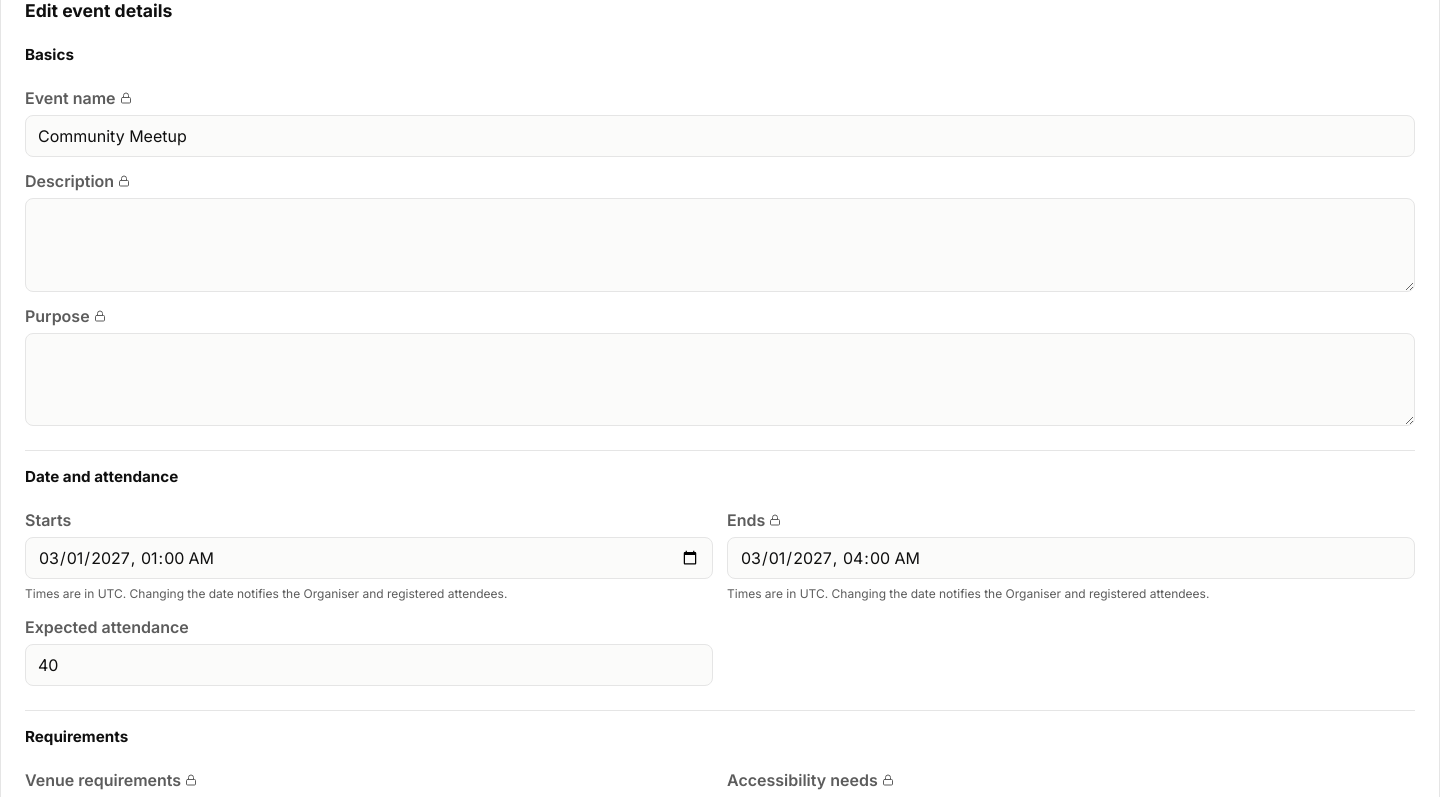
Scenario: TC_E10S01_03: refused save offers an explicit link, preserves attempted attendance, and only submits on confirmation
The image size is (1440, 797).
(page scrolled)
Replace the text in the number field labelled "Expected attendance" with "75". click: (369, 665)
box: [25,644,713,686]
(page scrolled)
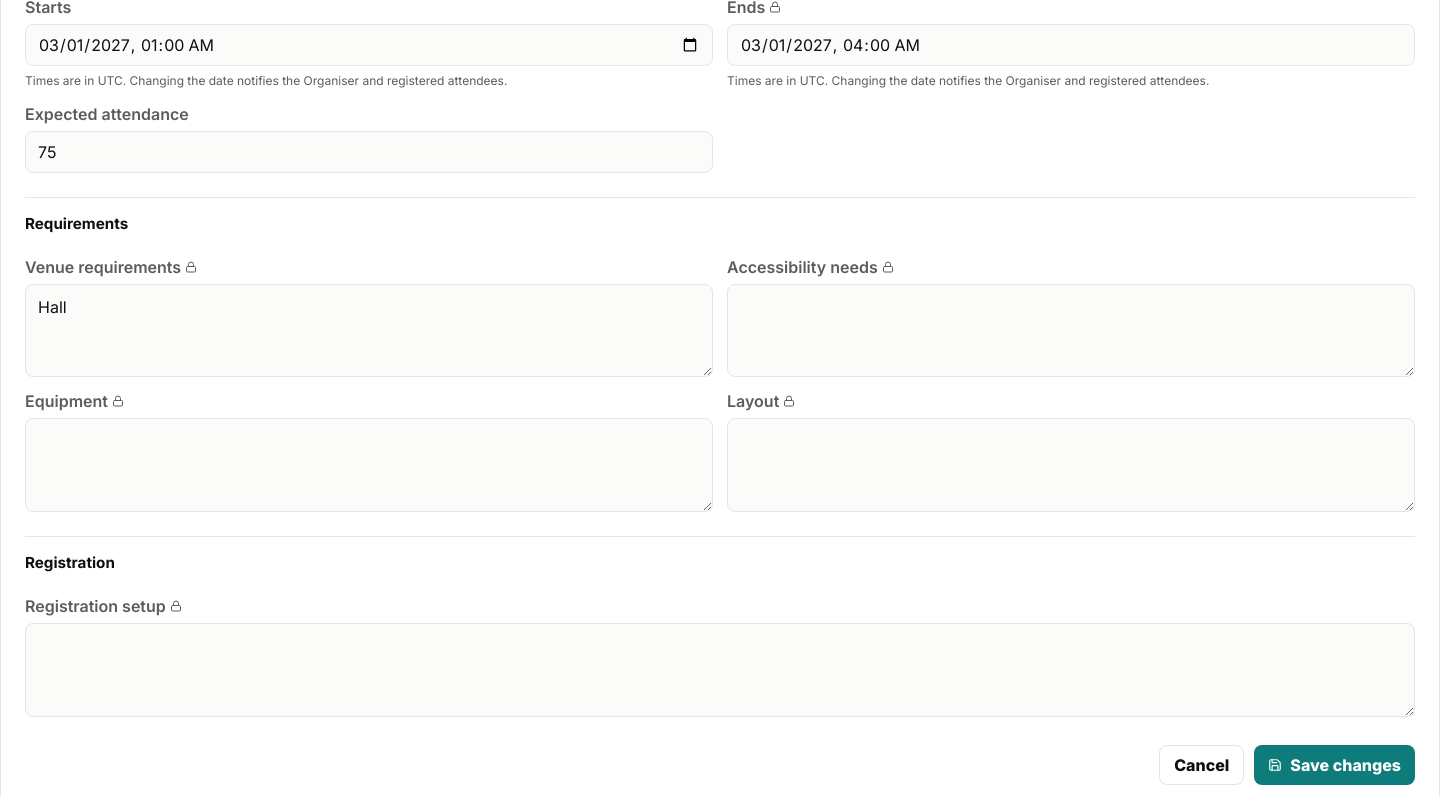
Click the button "Save changes". click: (1335, 765)
box: [1254,745,1415,785]
(page scrolled)
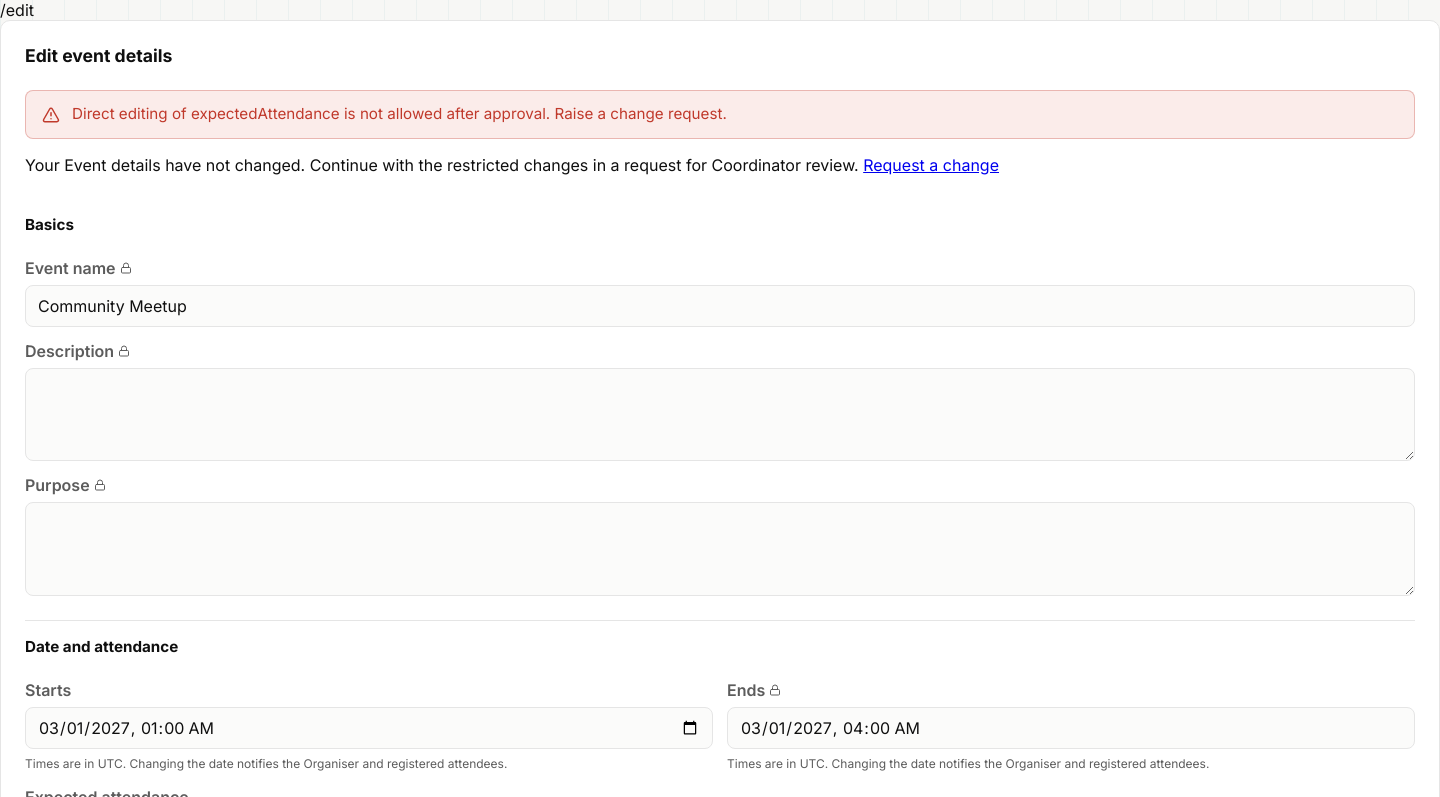
Click the link "Request a change". click: (931, 165)
box: [863,155,999,175]
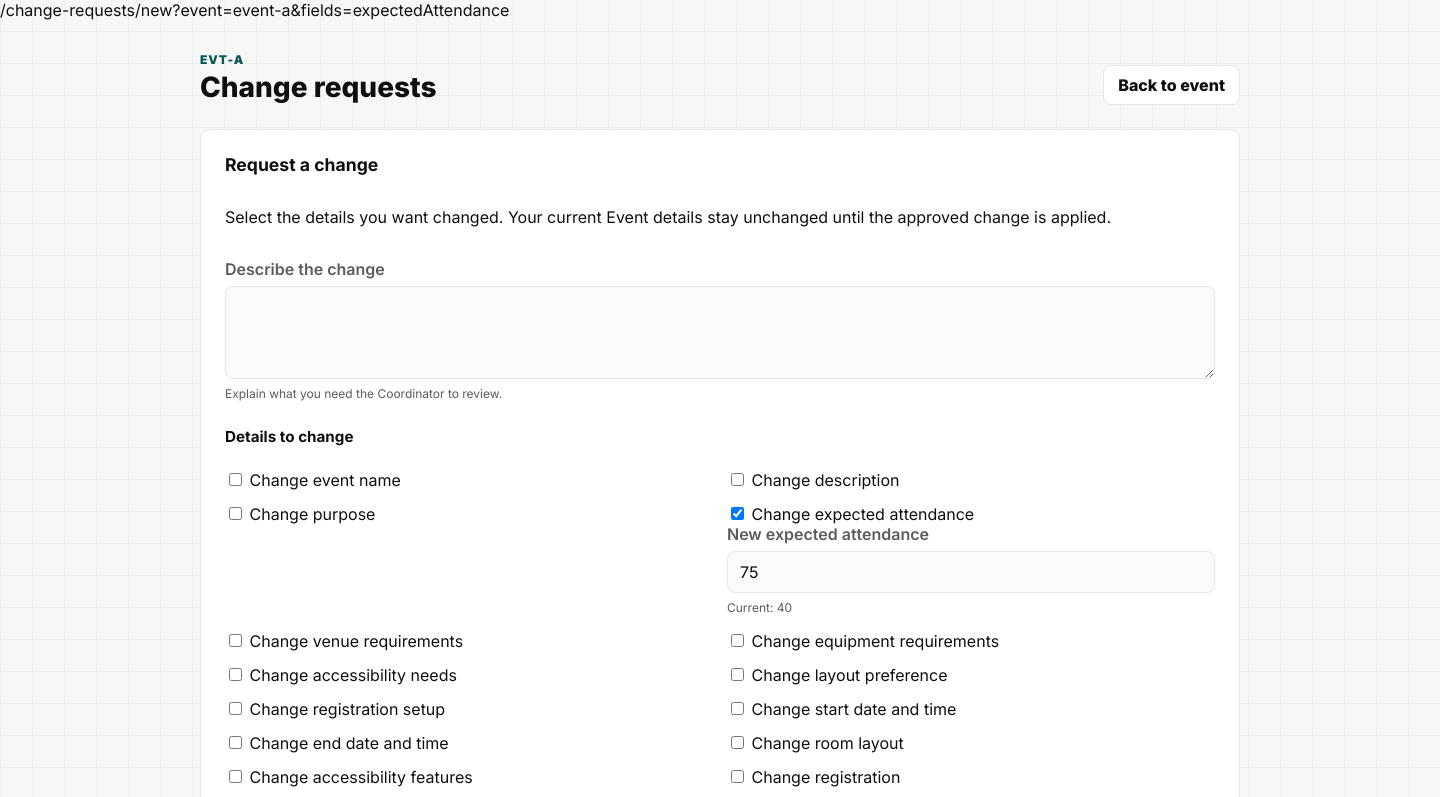
Expected: the checkbox labelled "Change expected attendance" is checked, [731,507,744,520]
Expected: the number field labelled "New expected attendance" holds "75", [727,551,1215,593]
Expected: the text "Current: 40" is shown, [727,600,792,615]
Type "More guests are expected" into the text box labelled "Describe the change". click: (720, 332)
box: [225,286,1215,379]
(page scrolled)
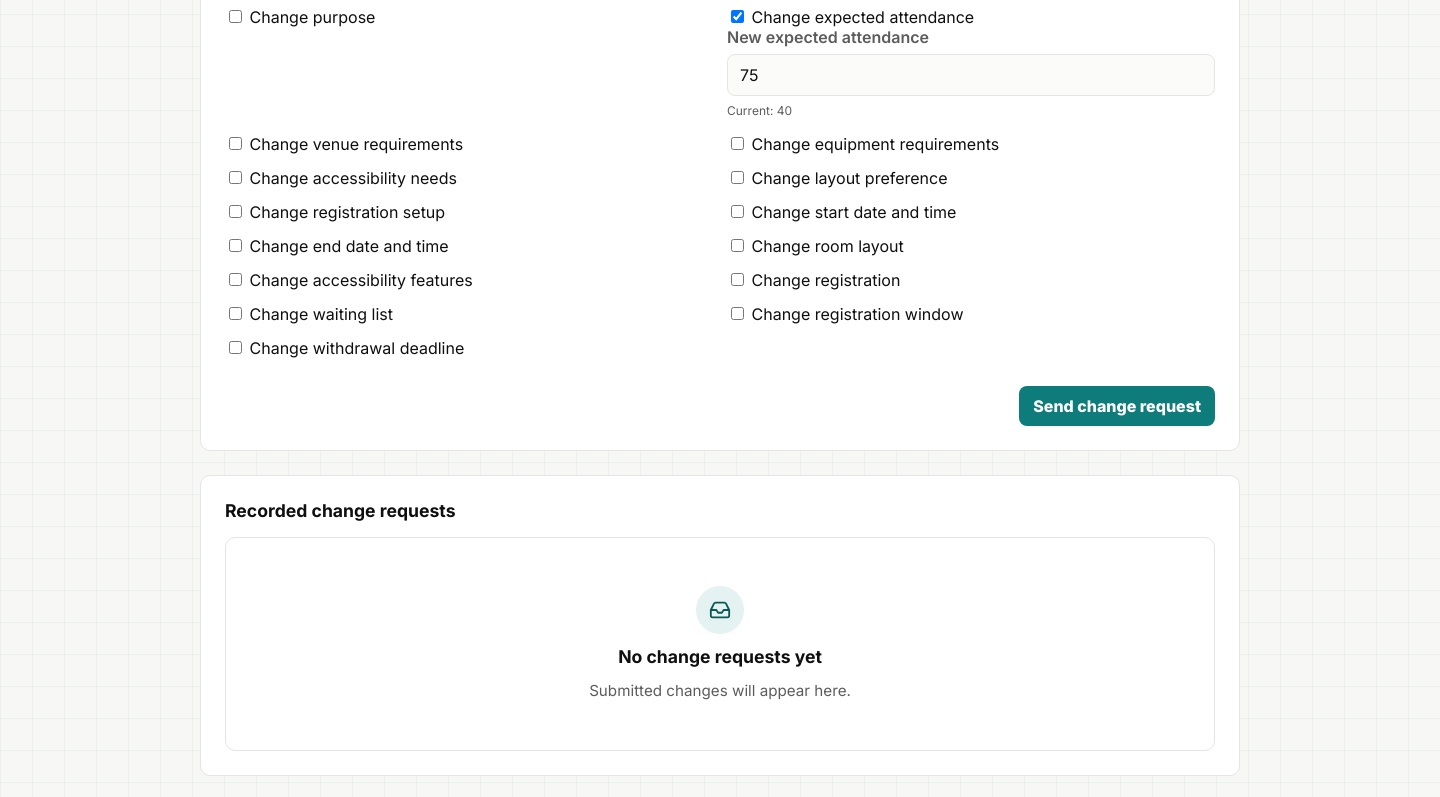
Click the button "Send change request". click: (1117, 406)
box: [1019,386,1215,426]
(page scrolled)
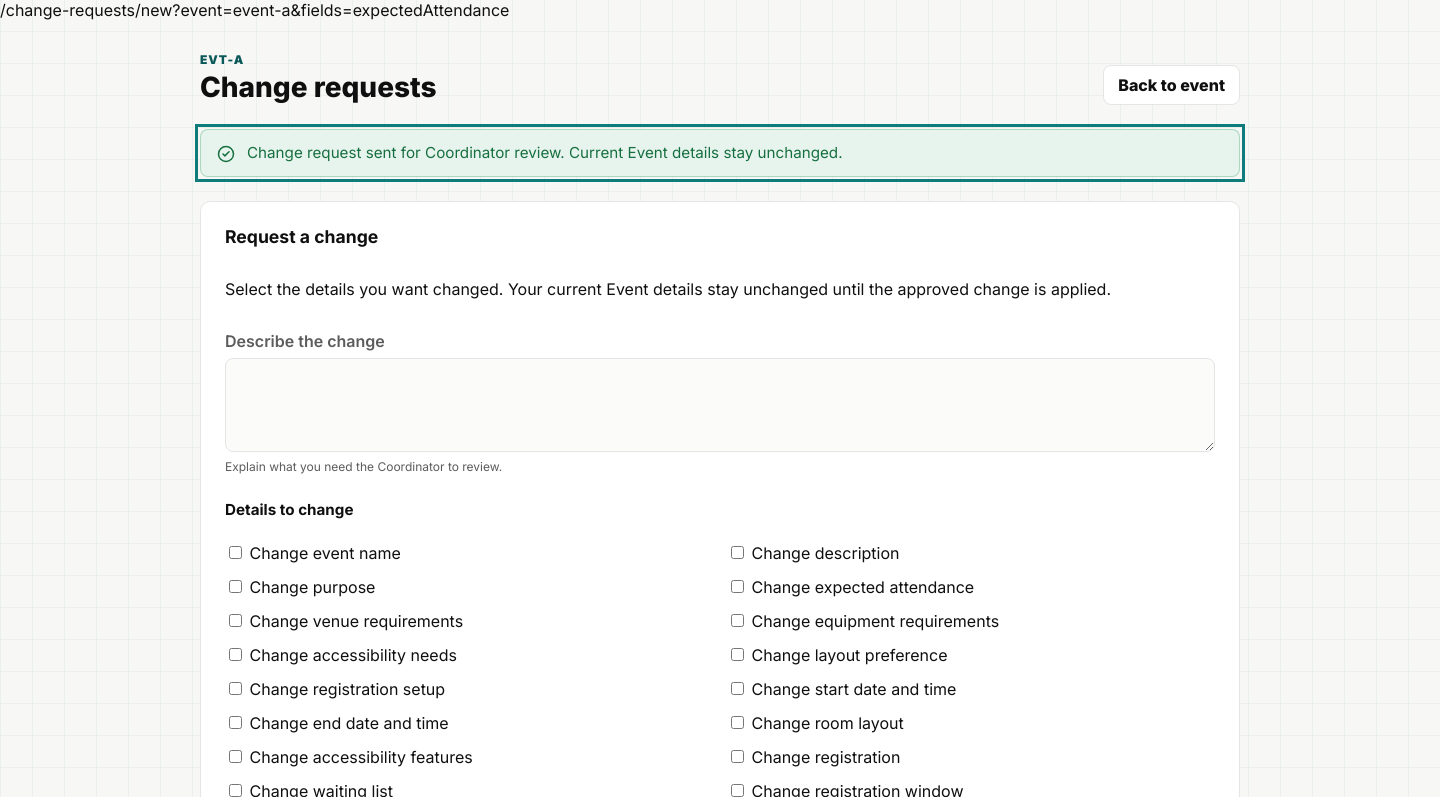
Expected: the text "Change request sent for Coordinator review. Current Event details stay unchanged." is shown, [247,143,842,162]
Expected: the checkbox labelled "Change expected attendance" is not checked, [731,580,744,593]
